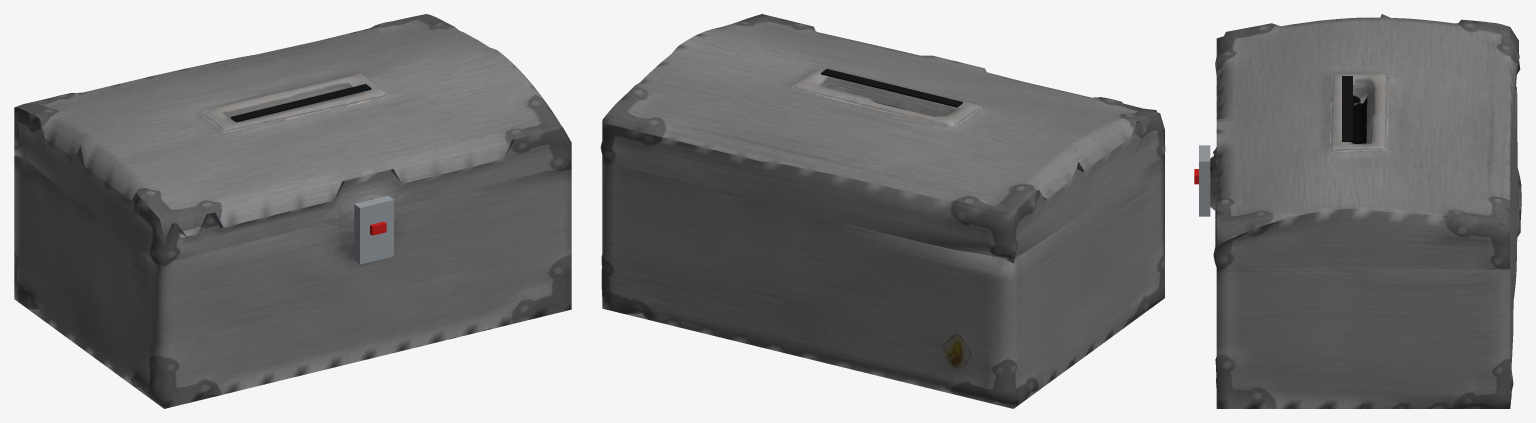
File: steelbox.glb
The picture shows the model from 3 angles, left to right: view 1: azimuth 30°, elevation 25°; view 2: azimuth 150°, elevation 25°; view 3: azimuth 270°, elevation 25°; orthographic projection. The views are drawn at different scales.
Parts seen in each view (by area): view 1: lid_shell, body, latch, card_slit; view 2: lid_shell, body, card_slit; view 3: lid_shell, body, latch, card_slit.
Part boxes in pixels (x1=…): lid_shell: x1=14, y1=14, x2=571, y2=264; body: x1=14, y1=155, x2=571, y2=408; latch: x1=354, y1=195, x2=393, y2=264; card_slit: x1=231, y1=84, x2=371, y2=122; lid_shell: x1=600, y1=14, x2=1165, y2=263; body: x1=601, y1=153, x2=1164, y2=408; card_slit: x1=821, y1=69, x2=962, y2=107; lid_shell: x1=1210, y1=14, x2=1520, y2=269; body: x1=1210, y1=86, x2=1521, y2=408; latch: x1=1199, y1=145, x2=1210, y2=216; card_slit: x1=1342, y1=76, x2=1352, y2=141.
Bounding box in the file's own units: 0.2976 × 0.141 × 0.2041.
Materials: 6 (1 with a texture image).
